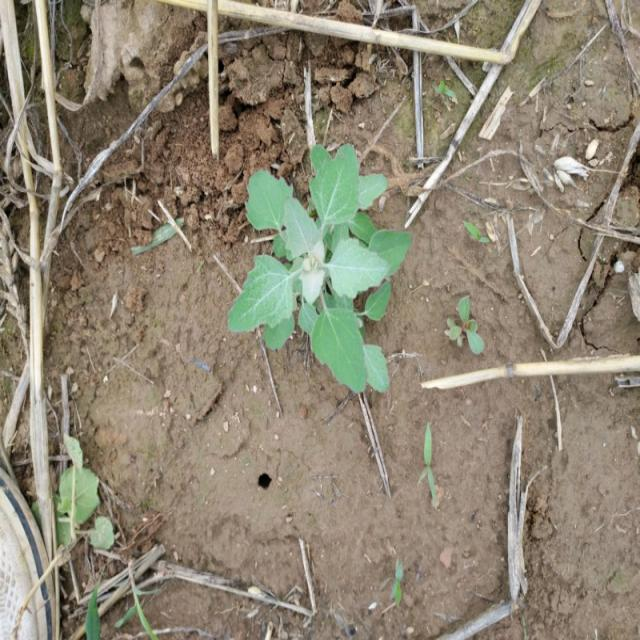goosefoots: (210, 114, 416, 398)
